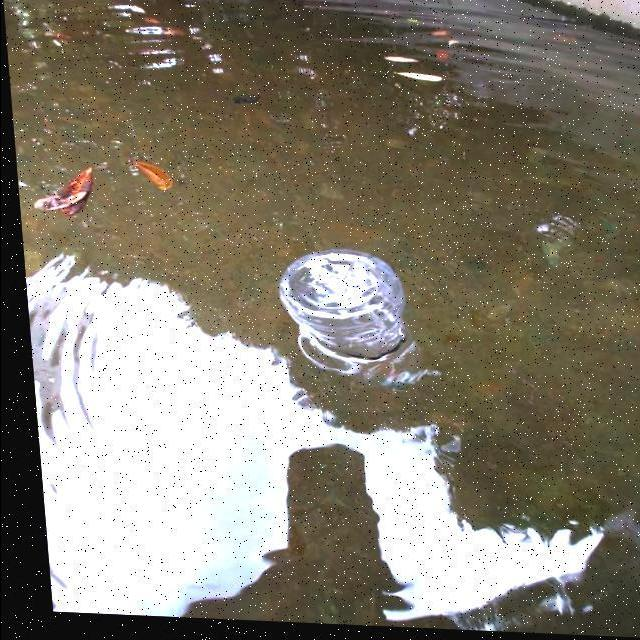Bottle: (273, 242, 419, 394)
